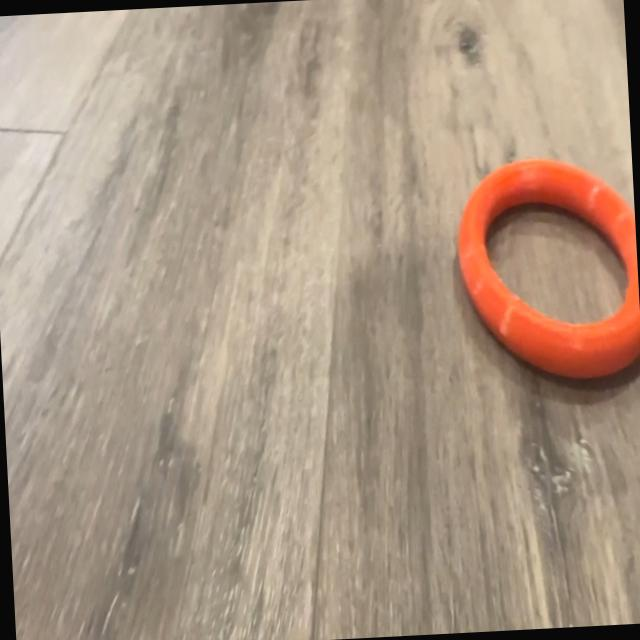note: (451, 151, 640, 386)
